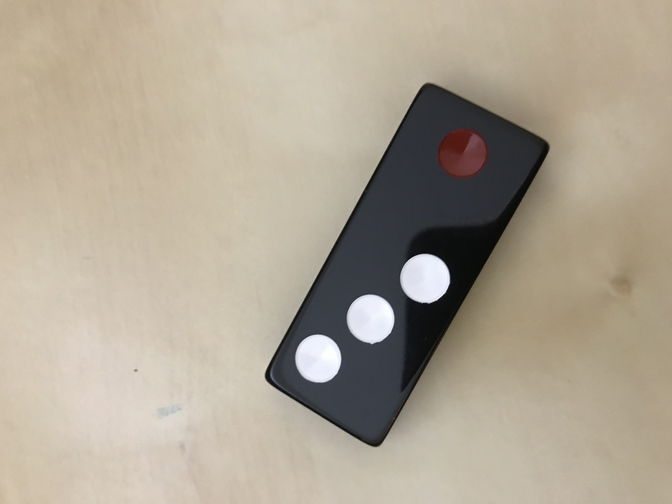goose: (264, 82, 550, 449)
